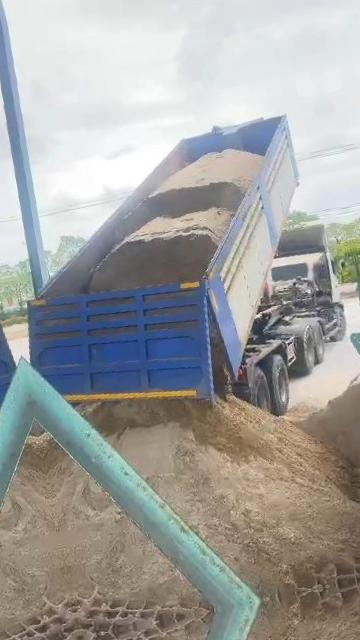sand: (87, 397, 360, 597), (39, 436, 199, 606), (89, 149, 263, 291), (287, 371, 360, 570), (211, 327, 228, 394)
